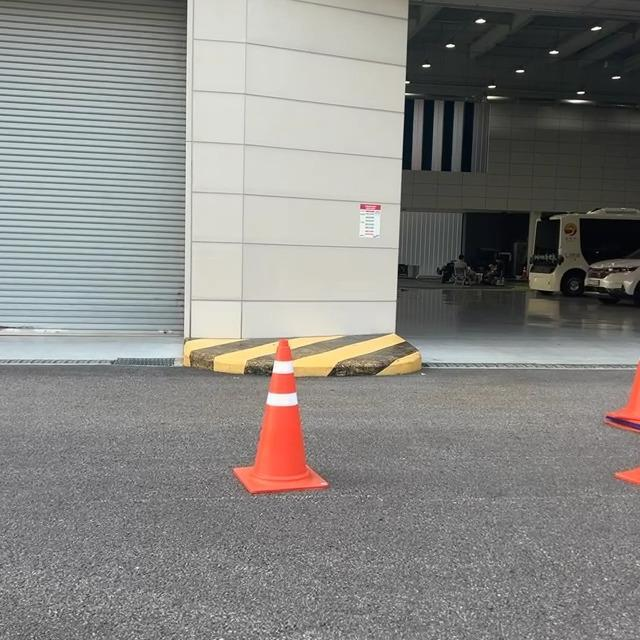fallen_object: (203, 346, 369, 501)
